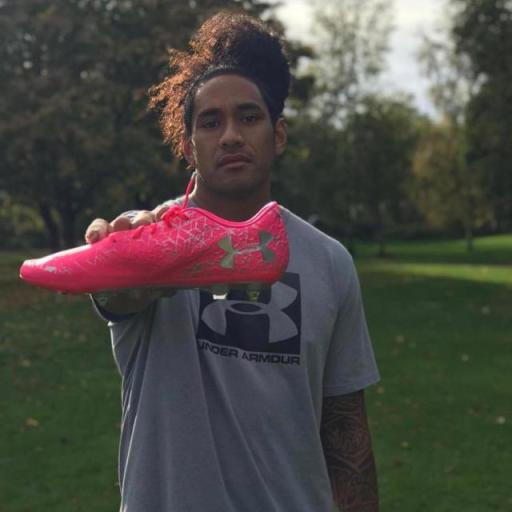Under Armour: (194, 274, 304, 366), (216, 228, 280, 270)
